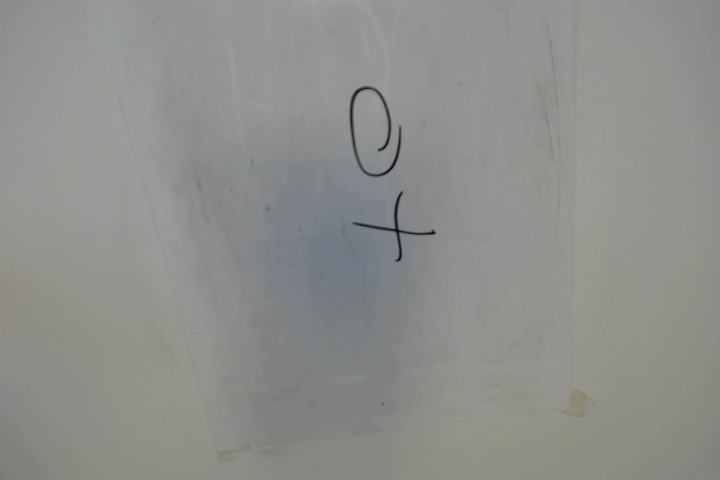0: (347, 82, 405, 181)
x: (357, 188, 441, 265)
